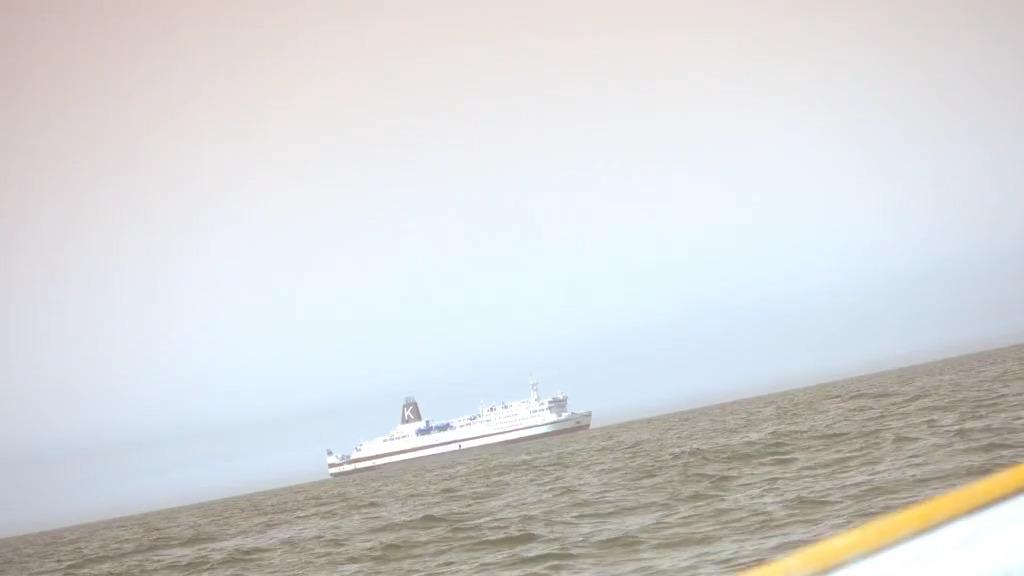PassengerShip: (316, 382, 604, 478)
